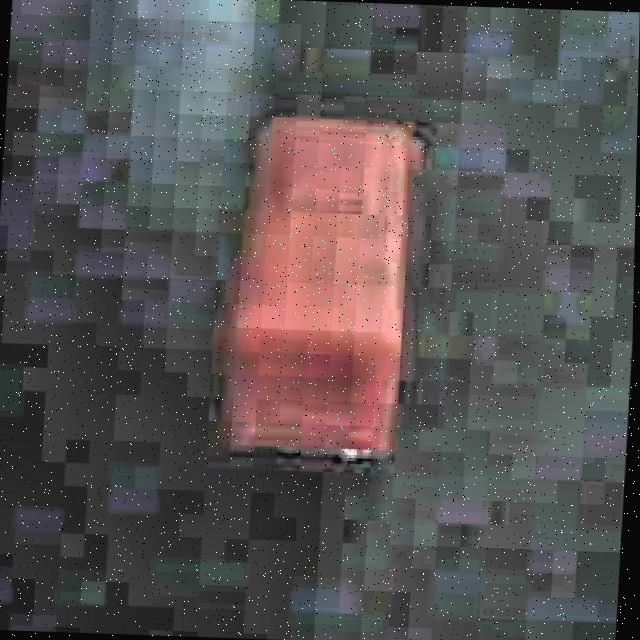bus: (208, 100, 436, 470)
